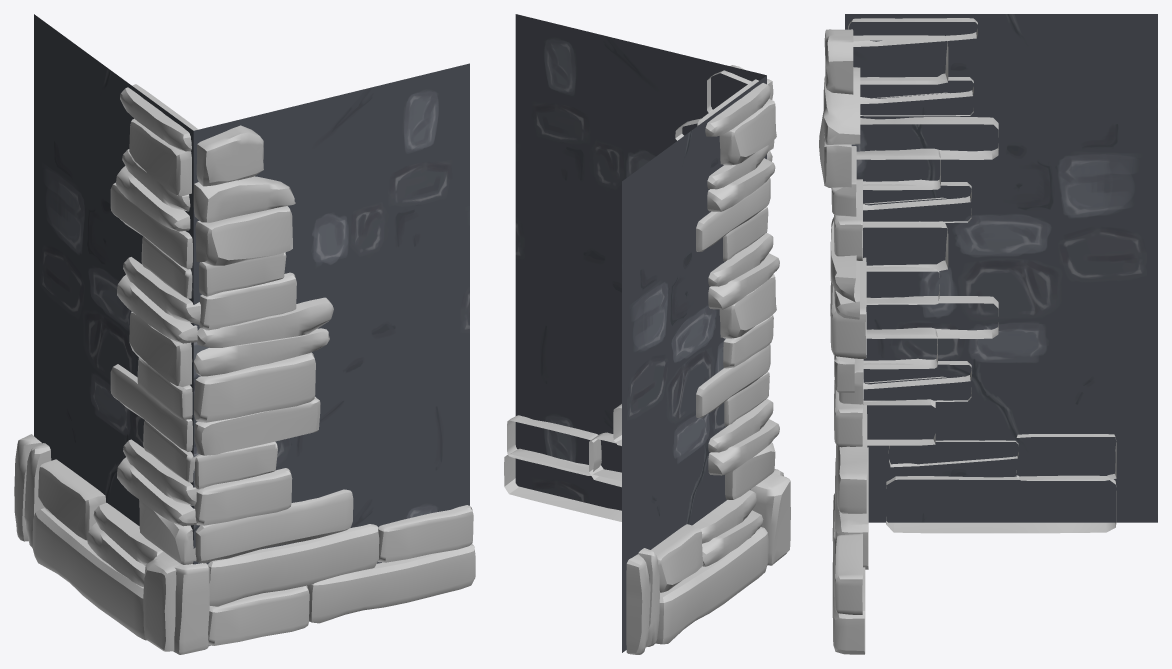
File: Wall corner.fbx
The picture shows the model from 3 angles, left to right: view 1: azimuth 30°, elevation 25°; view 2: azimuth 150°, elevation 25°; view 3: azimuth 270°, elevation 25°; orthographic projection. The views are drawn at different scales.
Visible parts, largest first — view 1: Wall_corner2; view 2: Wall_corner2; view 3: Wall_corner2.
Boxes of the visible parts, x1,y1,x2,y2 form: Wall_corner2: (14,14,475,654); Wall_corner2: (504,14,790,654); Wall_corner2: (819,14,1157,654).
Size of the model in its own units: 7.87 by 12.72 by 7.58.
